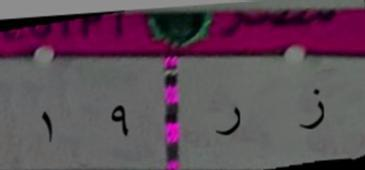1: (35, 101, 65, 153)
9: (101, 99, 142, 153)
raa: (209, 96, 248, 147)
zay: (295, 86, 330, 136)
